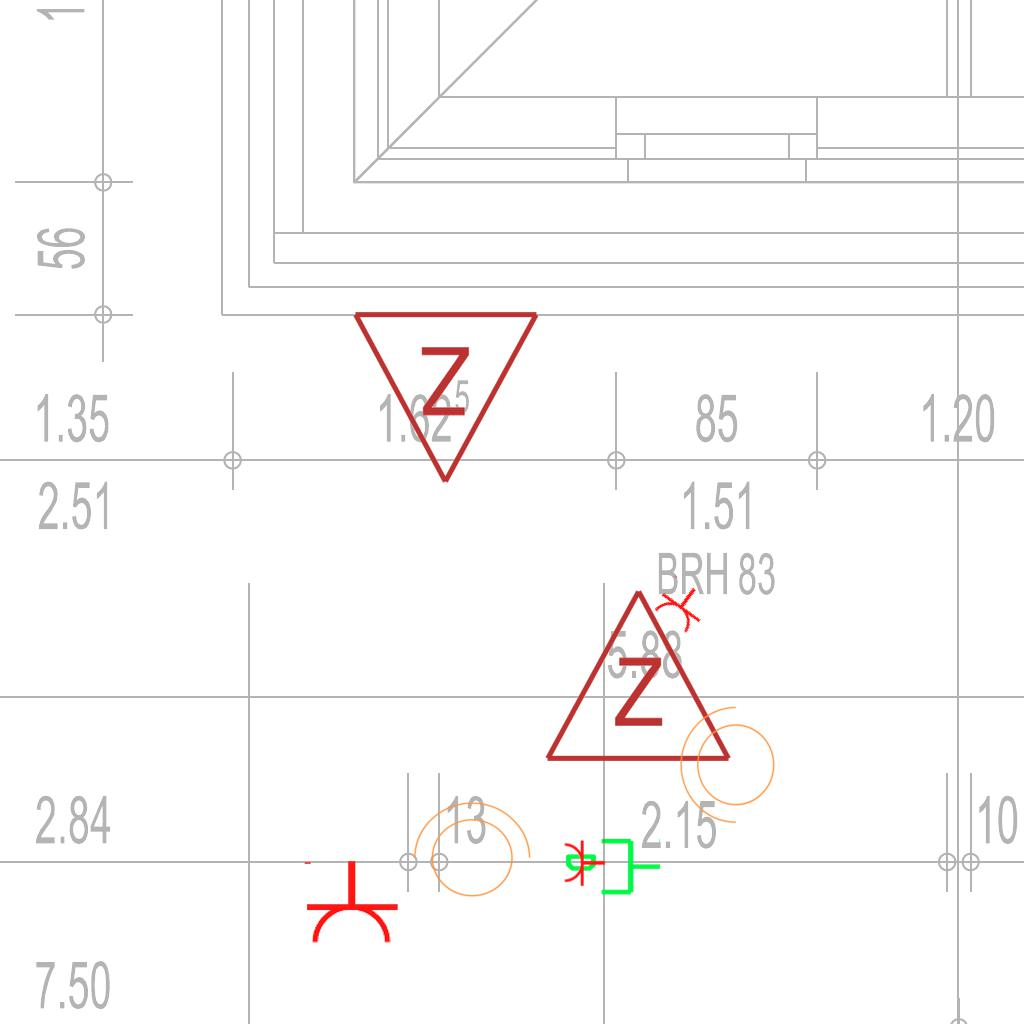Datenanschluss_einfach: (563, 834, 663, 903)
Scheinwerfer_fuer_Alarmbeleuchtung: (403, 797, 535, 909), (675, 702, 787, 834)
Schukosteckdose_einfach: (300, 859, 400, 946), (648, 572, 715, 638), (563, 837, 606, 887)
Zimmersignalleuchte: (350, 297, 546, 497), (538, 576, 734, 776)
